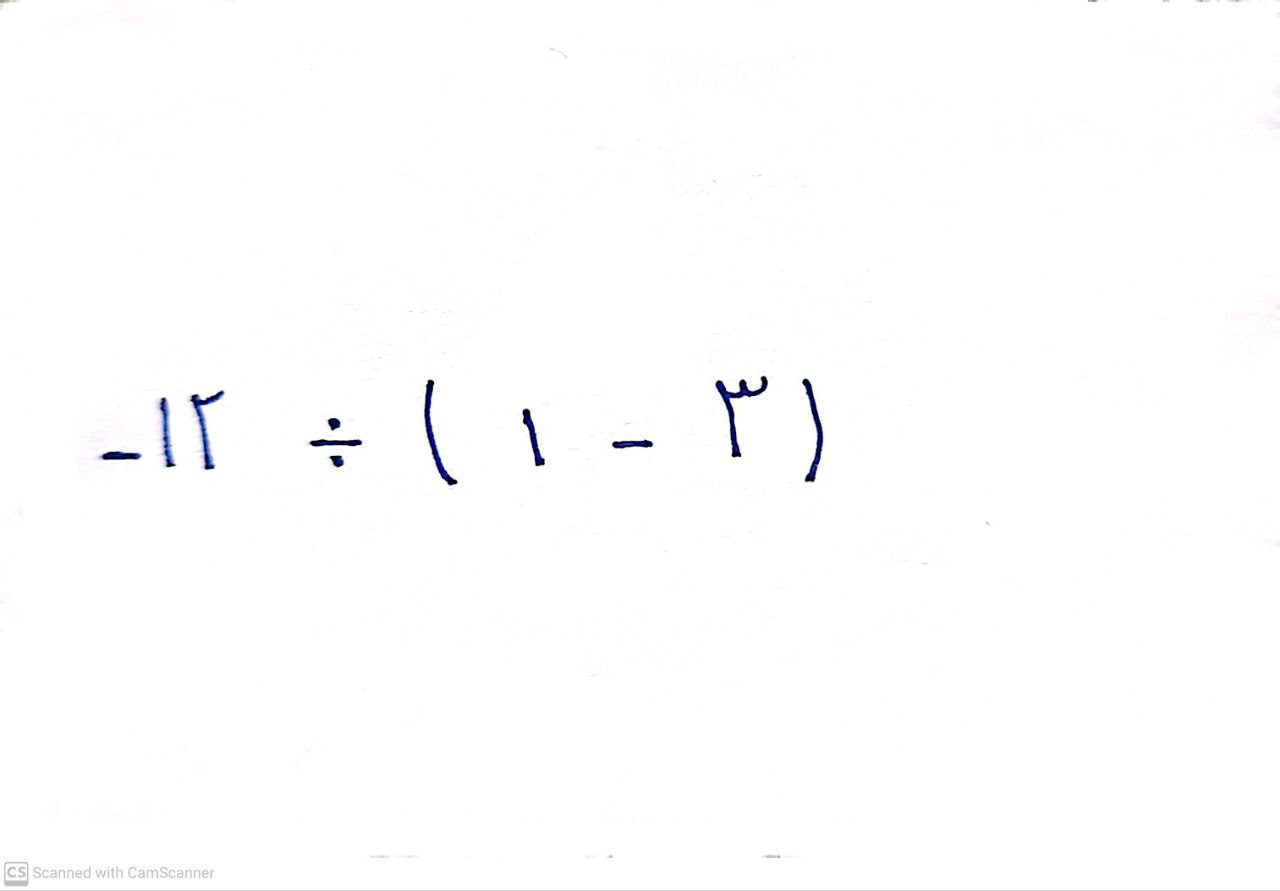character: (718, 378, 797, 479), (423, 378, 479, 501), (309, 420, 387, 498), (797, 376, 841, 488), (523, 406, 568, 481), (187, 390, 223, 471), (609, 440, 676, 474), (158, 395, 175, 470), (100, 453, 140, 471)
